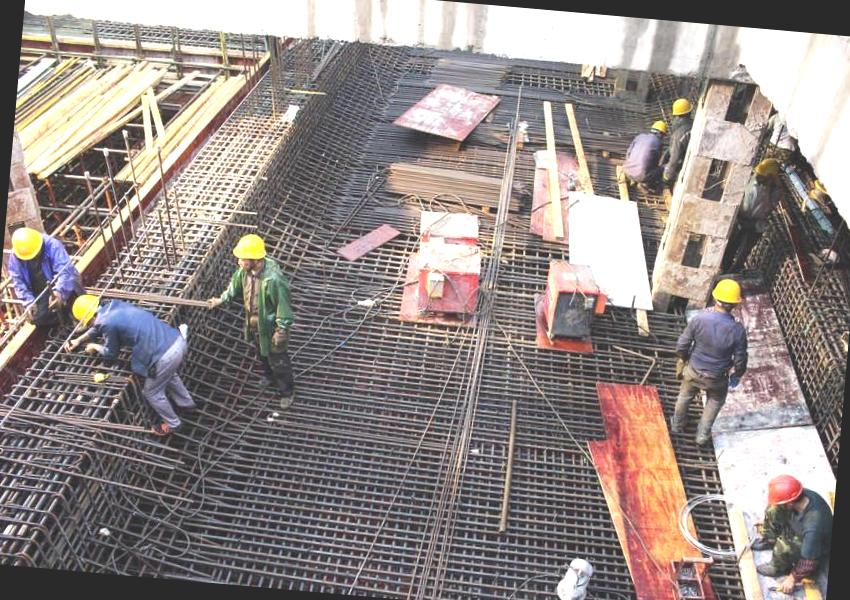helmet: (5, 222, 46, 262), (232, 228, 270, 266), (762, 474, 805, 505), (710, 276, 744, 304), (66, 298, 102, 321)
person: (64, 284, 212, 430), (653, 272, 758, 460), (220, 222, 303, 416), (735, 468, 836, 600), (0, 222, 82, 349), (614, 112, 672, 198), (654, 97, 701, 202)
